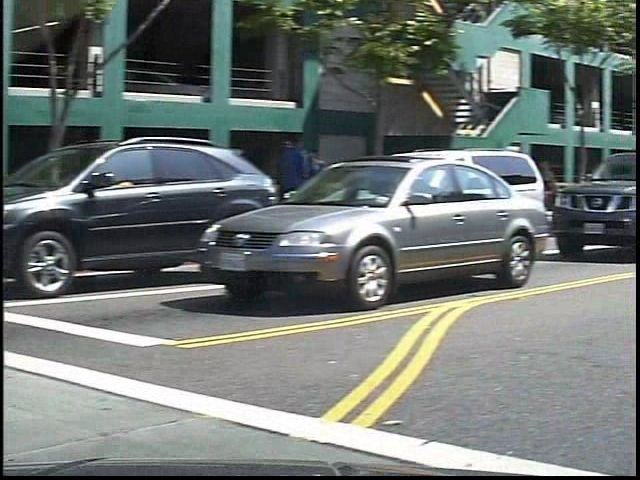person: (288, 128, 335, 242)
